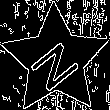N_NE: (24, 29, 87, 92)
